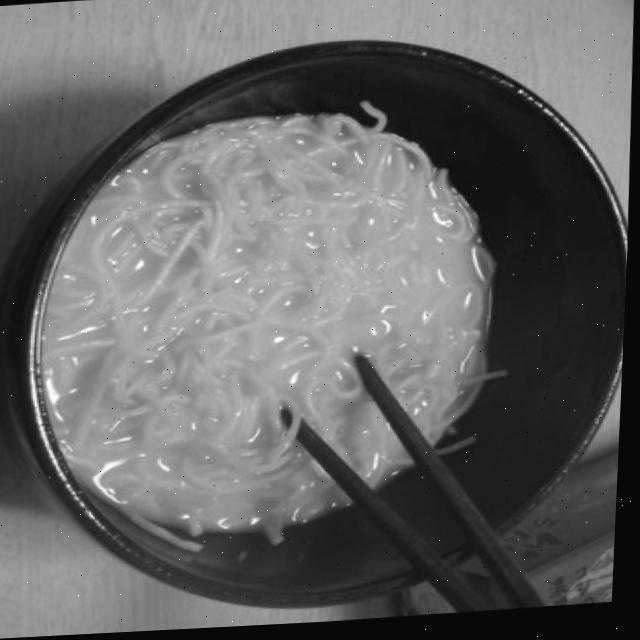面条主食: (24, 69, 601, 576)
